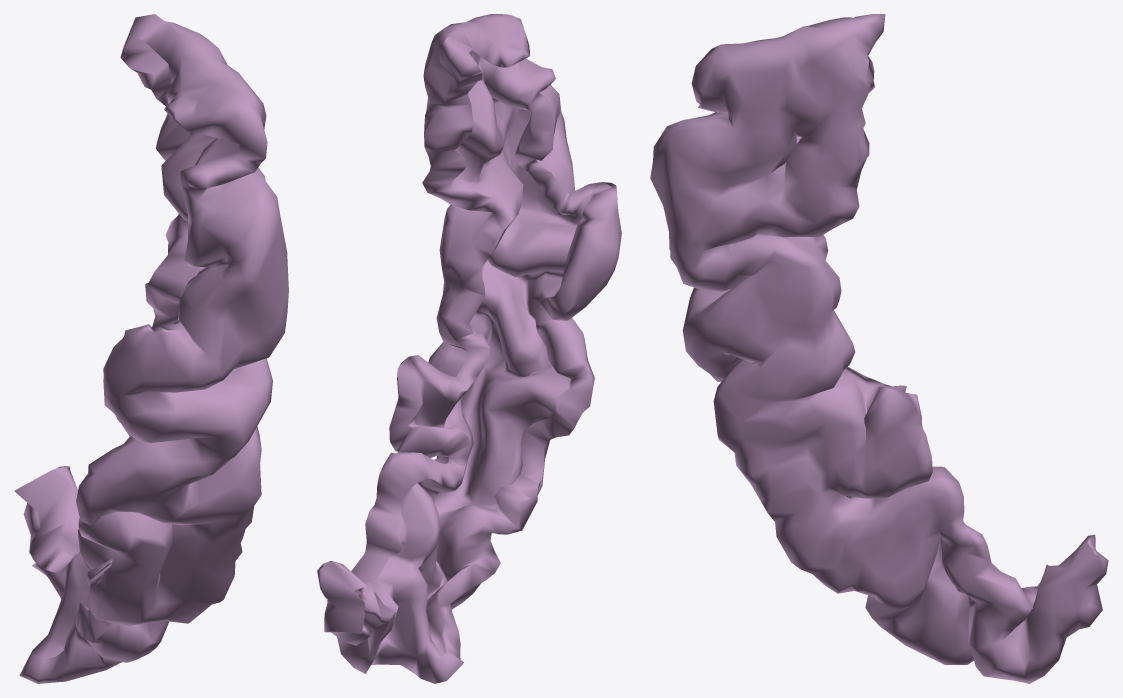
3 renders of one model, left to right at view 1: azimuth 30°, elevation 25°; view 2: azimuth 150°, elevation 25°; view 3: azimuth 270°, elevation 25°, orthographic. The views are drawn at different scales.
Parts seen in each view (by area): view 1: 右侧额上回; view 2: 右侧额上回; view 3: 右侧额上回.
Part boxes in pixels (left/top/right/bottom): 右侧额上回: left=14, top=14, right=288, bottom=683; 右侧额上回: left=317, top=14, right=621, bottom=683; 右侧额上回: left=650, top=14, right=1108, bottom=683.
Size of the model in its own units: 0.0414 by 0.1688 by 0.1048.
